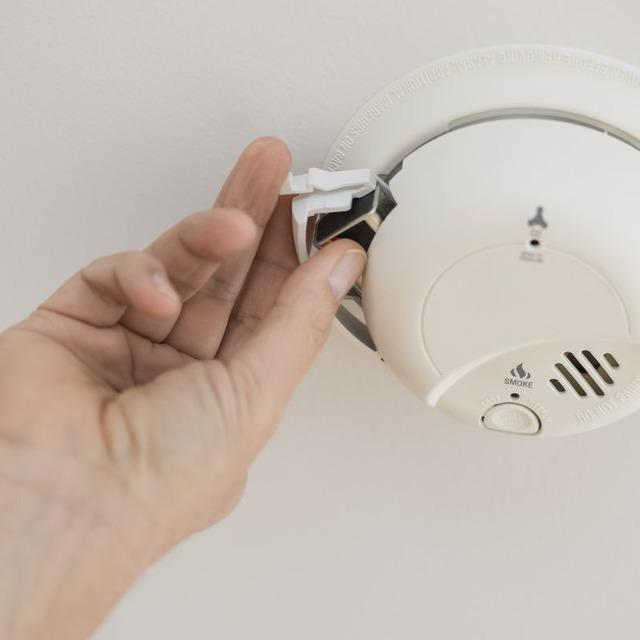Smoke-Detector: (334, 50, 638, 488)
